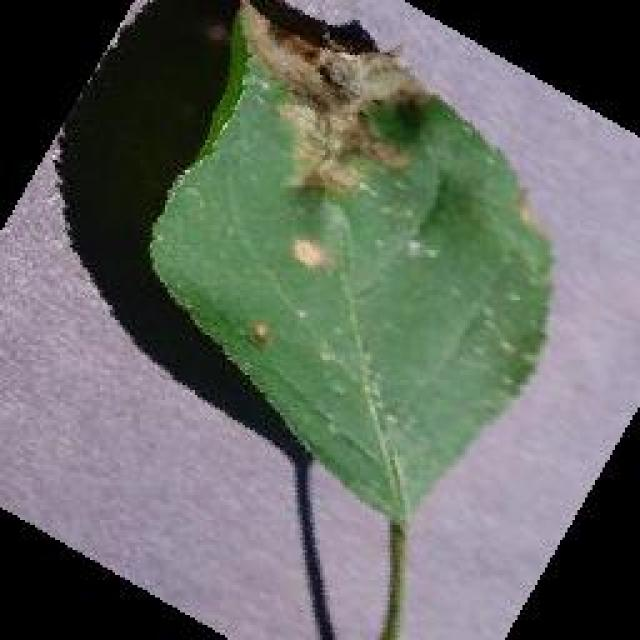Black_rot: (145, 0, 555, 528)
